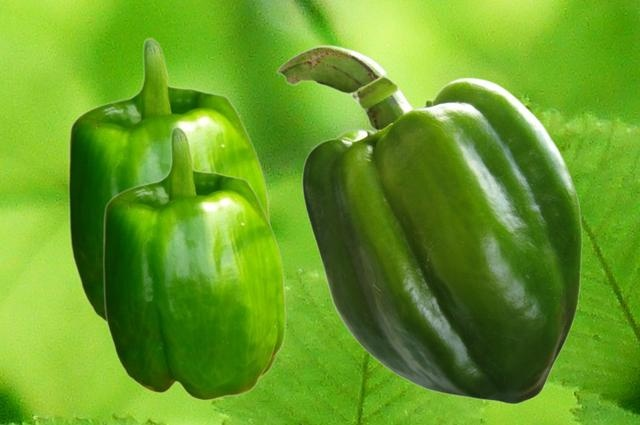bell_pepper: (276, 44, 581, 403), (67, 37, 270, 322), (102, 126, 285, 400)
